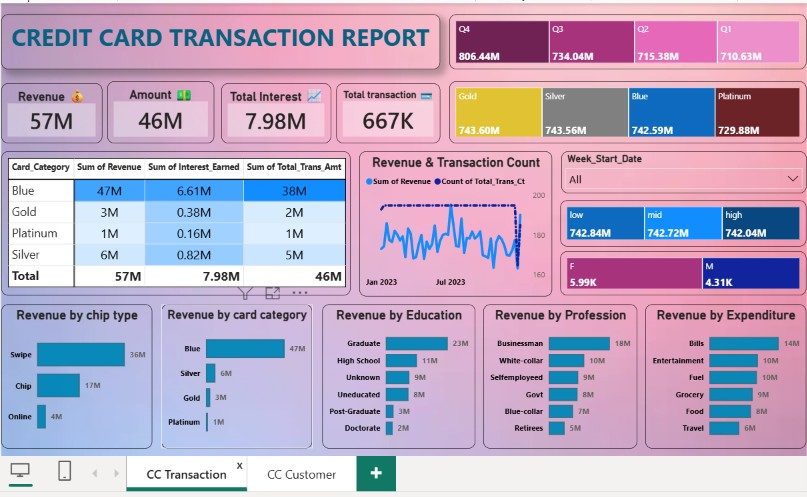

The page's visual inventory and layout, read from the dashboard file:
{"tool":"powerbi","page":{"name":"CC Transaction","canvas":[1280,720],"ordinal":0},"visuals":[{"type":"textbox","box":[0,17.5,698.3,87.5],"z":0},{"type":"lineChart","title":"Revenue & Transaction Count","fields":{"Category":["ccdb1 cc_detail.Week_Start_Date.Variation.Date Hierarchy.Year","ccdb1 cc_detail.Week_Start_Date.Variation.Date Hierarchy.Quarter","ccdb1 cc_detail.Week_Start_Date.Variation.Date Hierarchy.Month","ccdb1 cc_detail.Week_Start_Date.Variation.Date Hierarchy.Day"],"Y":["Sum(ccdb1 cc_detail.Revenue)"],"Y2":["CountNonNull(ccdb1 cc_detail.Total_Trans_Ct)"]},"box":[569.4,235.4,307,230.6],"z":1},{"type":"clusteredBarChart","title":"Revenue by Expenditure","fields":{"Category":["ccdb1 cc_detail.Exp_Type"],"Y":["Sum(ccdb1 cc_detail.Revenge)"]},"box":[1024.4,478.8,256.1,229],"z":2},{"type":"clusteredBarChart","title":"Revenue by Education","fields":{"Category":["ccdb1 cust_detail.Education_Level"],"Y":["Sum(ccdb1 cc_detail.Revenge)"]},"box":[510.6,478.8,243.4,229],"z":3},{"type":"clusteredBarChart","title":"Revenue by Profession","fields":{"Y":["Sum(ccdb1 cc_detail.Revenge)"],"Category":["ccdb1 cust_detail.Customer_Job"]},"box":[766.7,478.8,245,229],"z":4},{"type":"clusteredBarChart","title":"Revenue by card category","fields":{"Category":["ccdb1 cc_detail.Card_Category"],"Y":["Sum(ccdb1 cc_detail.Revenge)"]},"box":[254.5,478.8,240.2,229],"z":5},{"type":"clusteredBarChart","title":"Revenue by chip type","fields":{"Y":["Sum(ccdb1 cc_detail.Revenge)"],"Category":["ccdb1 cc_detail.Use_Chip"]},"box":[0,478.8,240.2,229],"z":6},{"type":"cardVisual","title":"Revenue 💰","fields":{"Data":["Sum(ccdb1 cc_detail.Revenge)"]},"box":[0,127.2,160.7,95.4],"z":8},{"type":"cardVisual","title":"Total Interest 📈","fields":{"Data":["Sum(ccdb1 cc_detail.Interest_Earned)"]},"box":[349.9,127.2,175,95.4],"z":9},{"type":"cardVisual","title":"Amount 💵","fields":{"Data":["Sum(ccdb1 cc_detail.Total_Trans_Amt)"]},"box":[168.6,124.1,170.2,98.6],"z":10},{"type":"cardVisual","title":"Total transaction 💳","fields":{"Data":["Sum(ccdb1 cc_detail.Total_Trans_Ct)"]},"box":[532.9,127.2,165.4,95.4],"z":11},{"type":"slicer","fields":{"Values":["ccdb1 cc_detail.Week_Start_Date"]},"box":[890.7,235.4,389.7,66.8],"z":13},{"type":"treemap","fields":{"Group":["ccdb1 cc_detail.Qtr"],"Values":["Avg(ccdb1 cc_detail.Client_Num)"]},"box":[712.6,17.5,567.8,87.5],"z":14},{"type":"treemap","fields":{"Group":["ccdb1 cc_detail.Card_Category"],"Values":["Avg(ccdb1 cc_detail.Client_Num)"]},"box":[712.6,124.1,567.8,98.6],"z":15},{"type":"treemap","fields":{"Group":["ccdb1 cust_detail.Gender"],"Values":["CountNonNull(ccdb1 cc_detail.Client_Num)"]},"box":[889.2,394.5,391.3,70],"z":16},{"type":"treemap","fields":{"Values":["Avg(ccdb1 cc_detail.Client_Num)"],"Group":["ccdb1 cust_detail.IncomeGroup"]},"box":[889.2,313.4,391.3,73.2],"z":17},{"type":"pivotTable","fields":{"Rows":["ccdb1 cc_detail.Card_Category"],"Values":["Sum(ccdb1 cc_detail.Revenue)","Sum(ccdb1 cc_detail.Interest_Earned)","Sum(ccdb1 cc_detail.Total_Trans_Amt)"]},"box":[0,235.4,555.1,229],"z":18}]}

Visuals, with their boxes on the page's 1280x720 design canvas (x1, y1, x2, y2). These are canvas units, not pixel positions in the 807x497 screenshot, which may show the page scaled, cropped or inside an application window:
textbox: 0/18/698/105
"Revenue & Transaction Count" lineChart: 569/235/876/466
"Revenue by Expenditure" clusteredBarChart: 1024/479/1280/708
"Revenue by Education" clusteredBarChart: 511/479/754/708
"Revenue by Profession" clusteredBarChart: 767/479/1012/708
"Revenue by card category" clusteredBarChart: 254/479/495/708
"Revenue by chip type" clusteredBarChart: 0/479/240/708
"Revenue 💰" cardVisual: 0/127/161/223
"Total Interest 📈" cardVisual: 350/127/525/223
"Amount 💵" cardVisual: 169/124/339/223
"Total transaction 💳" cardVisual: 533/127/698/223
slicer - ccdb1 cc_detail.Week_Start_Date: 891/235/1280/302
treemap - ccdb1 cc_detail.Qtr x Avg(ccdb1 cc_detail.Client_Num): 713/18/1280/105
treemap - ccdb1 cc_detail.Card_Category x Avg(ccdb1 cc_detail.Client_Num): 713/124/1280/223
treemap - ccdb1 cust_detail.Gender x CountNonNull(ccdb1 cc_detail.Client_Num): 889/394/1280/464
treemap - Avg(ccdb1 cc_detail.Client_Num) x ccdb1 cust_detail.IncomeGroup: 889/313/1280/387
pivotTable - ccdb1 cc_detail.Card_Category x Sum(ccdb1 cc_detail.Revenue): 0/235/555/464
